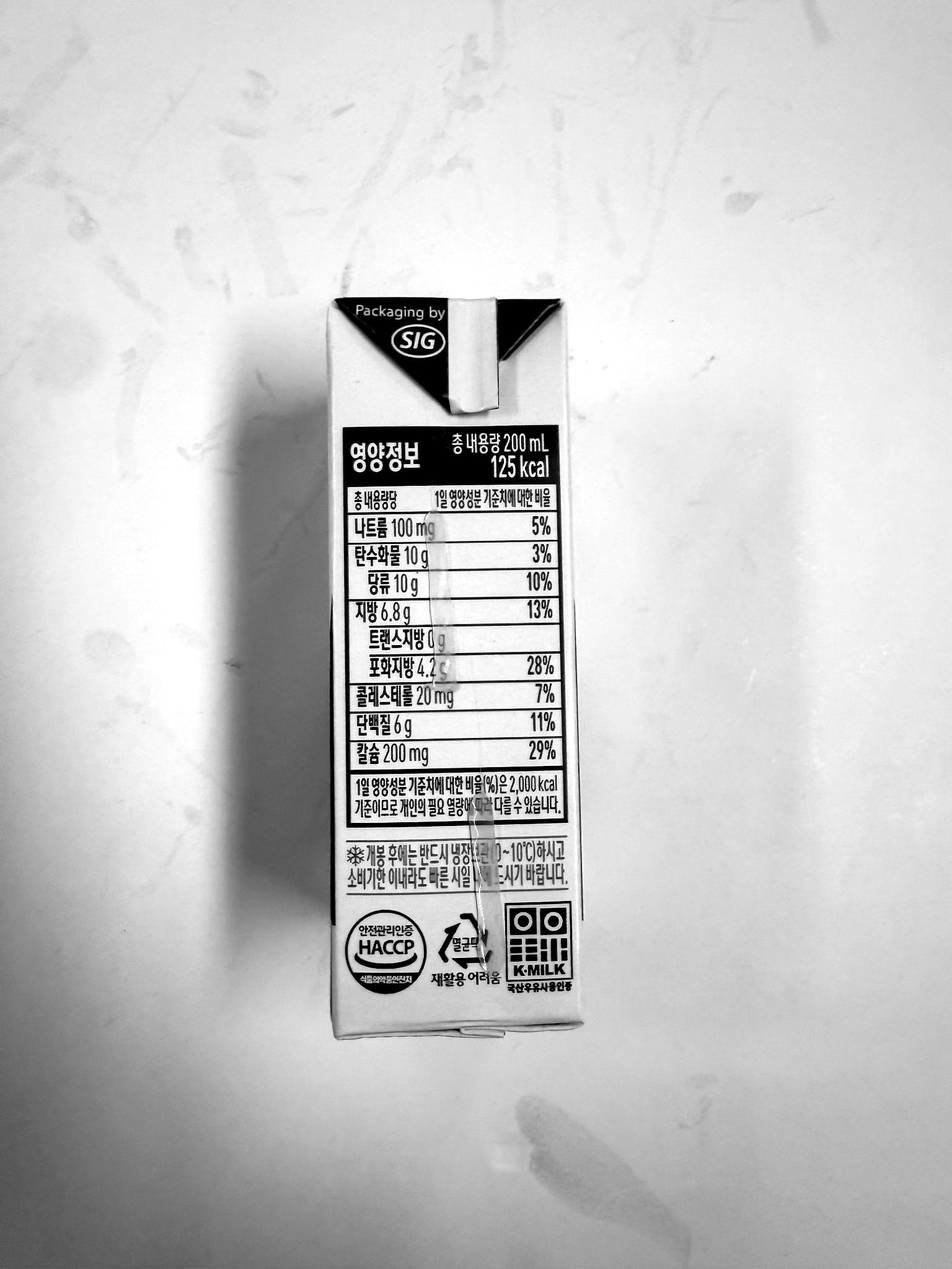milk_green: (331, 293, 589, 1040)
